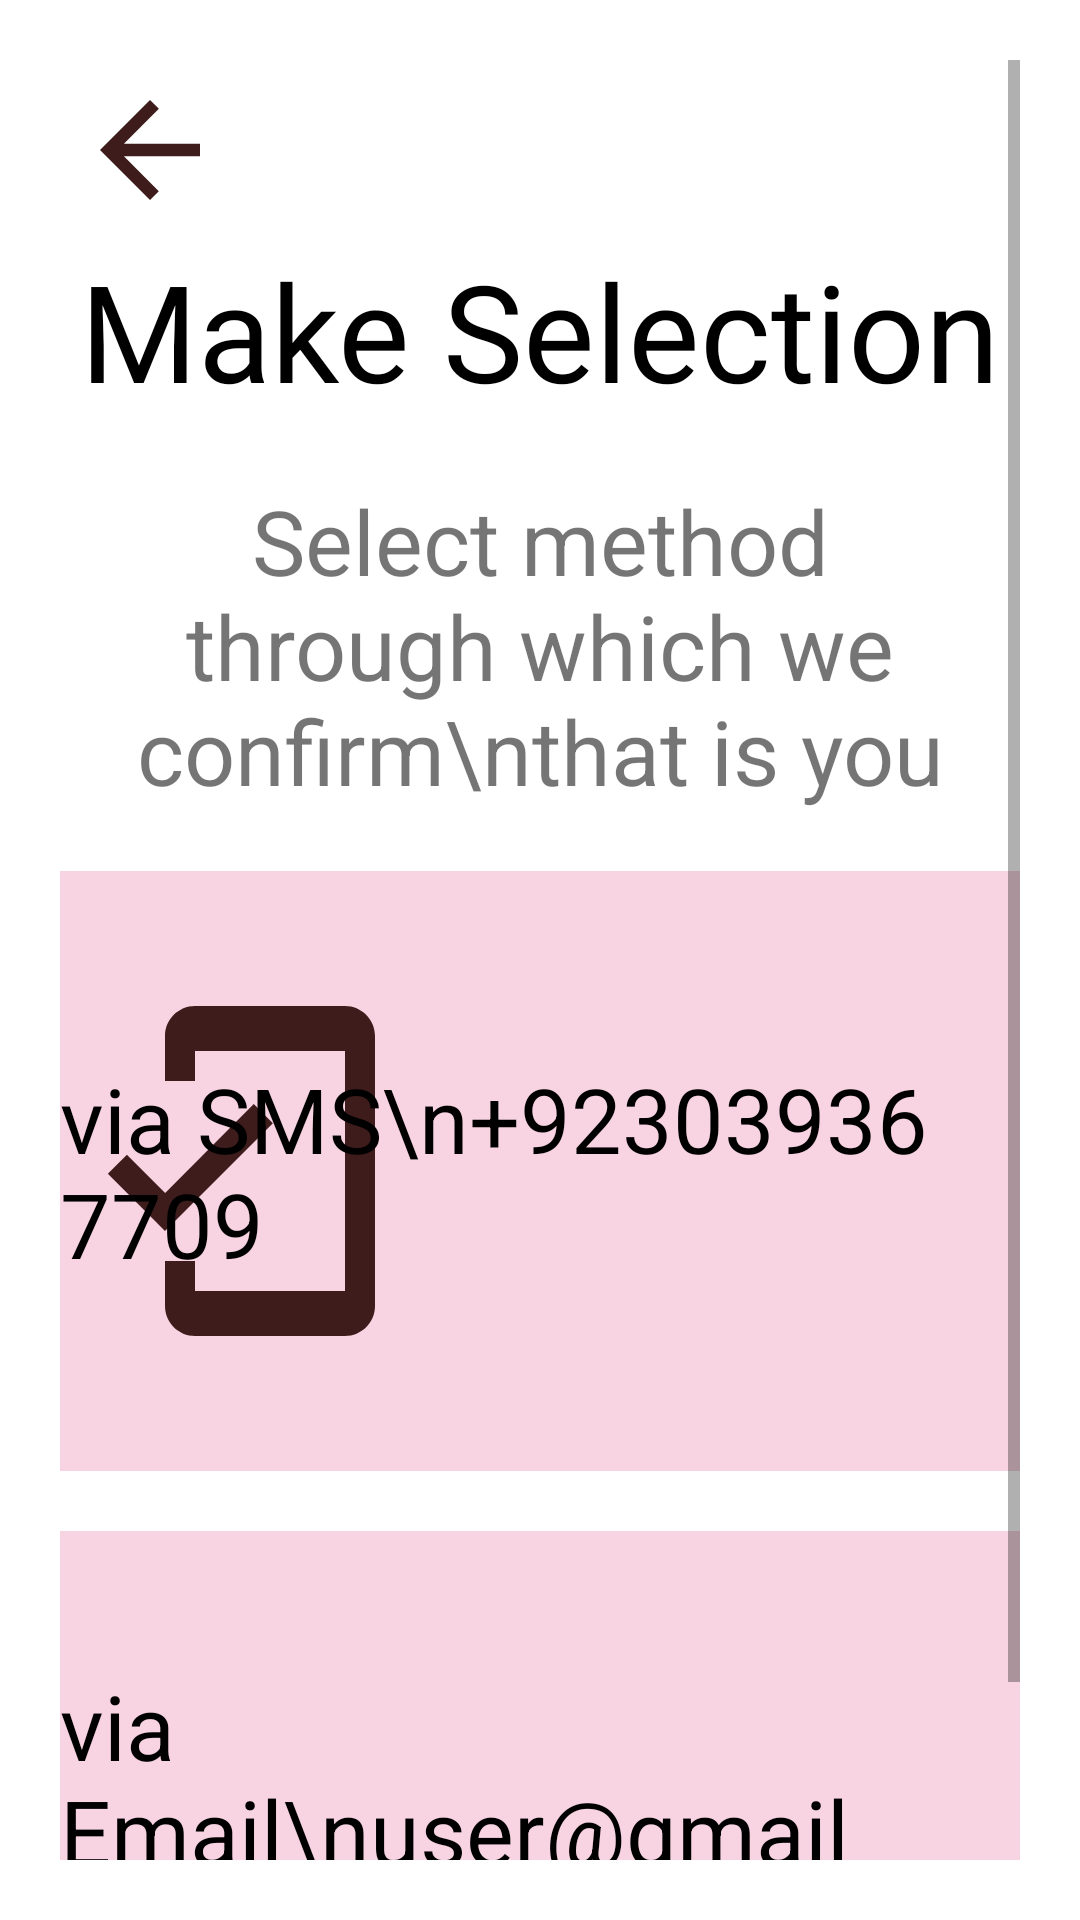

Icon click points for this 1080x1920 phone screenshot, format [x,y]:
arrow back: [150,150]
